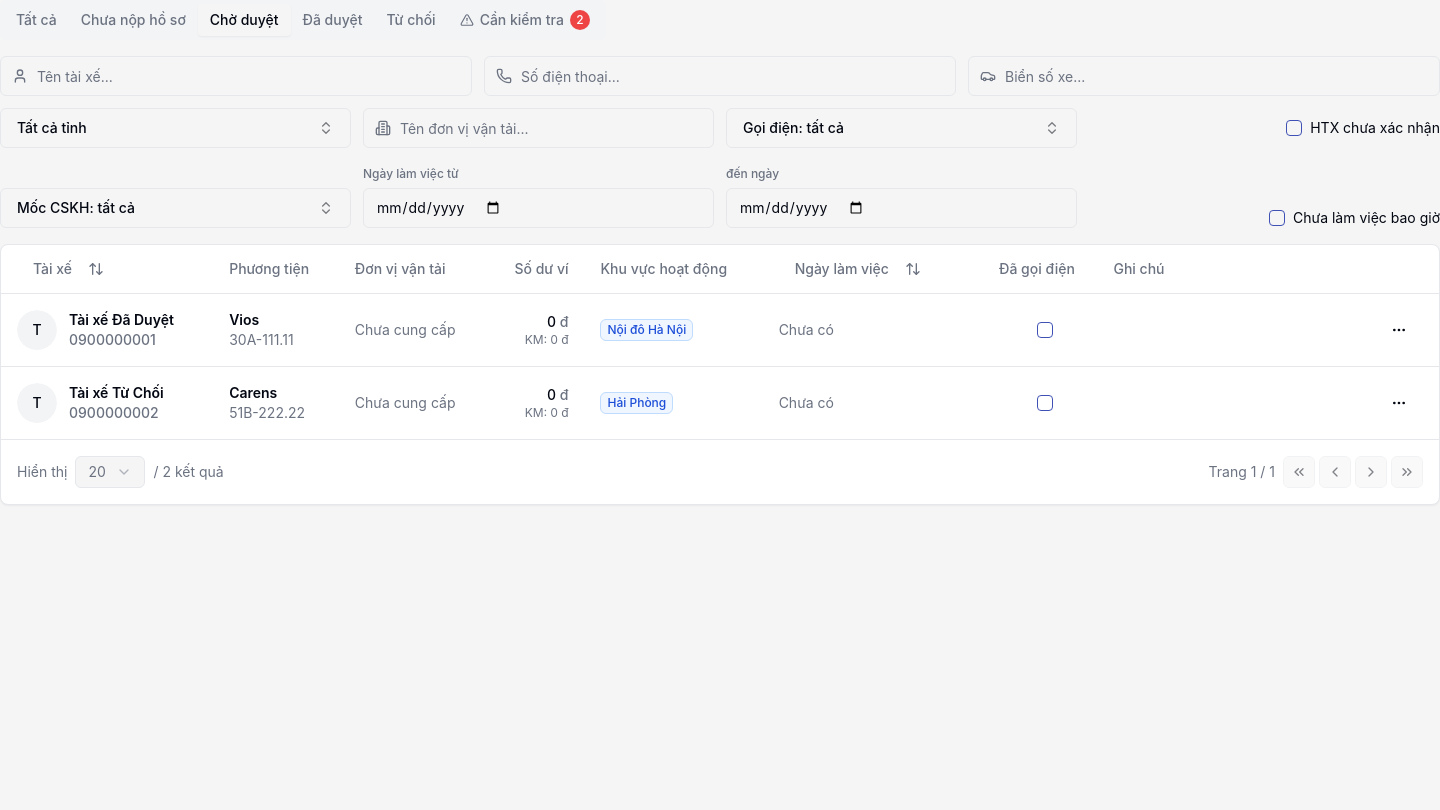
DriversTable — Đưa lại Chờ duyệt cho tài xế đã duyệt và từ chối › hiển thị thông báo xoá lý do từ chối khi đưa tài xế đang bị từ chối về Chờ duyệt
Click the text "Tài xế Từ Chối".
click(116, 392)  # box [69,382,164,402]
(page scrolled)
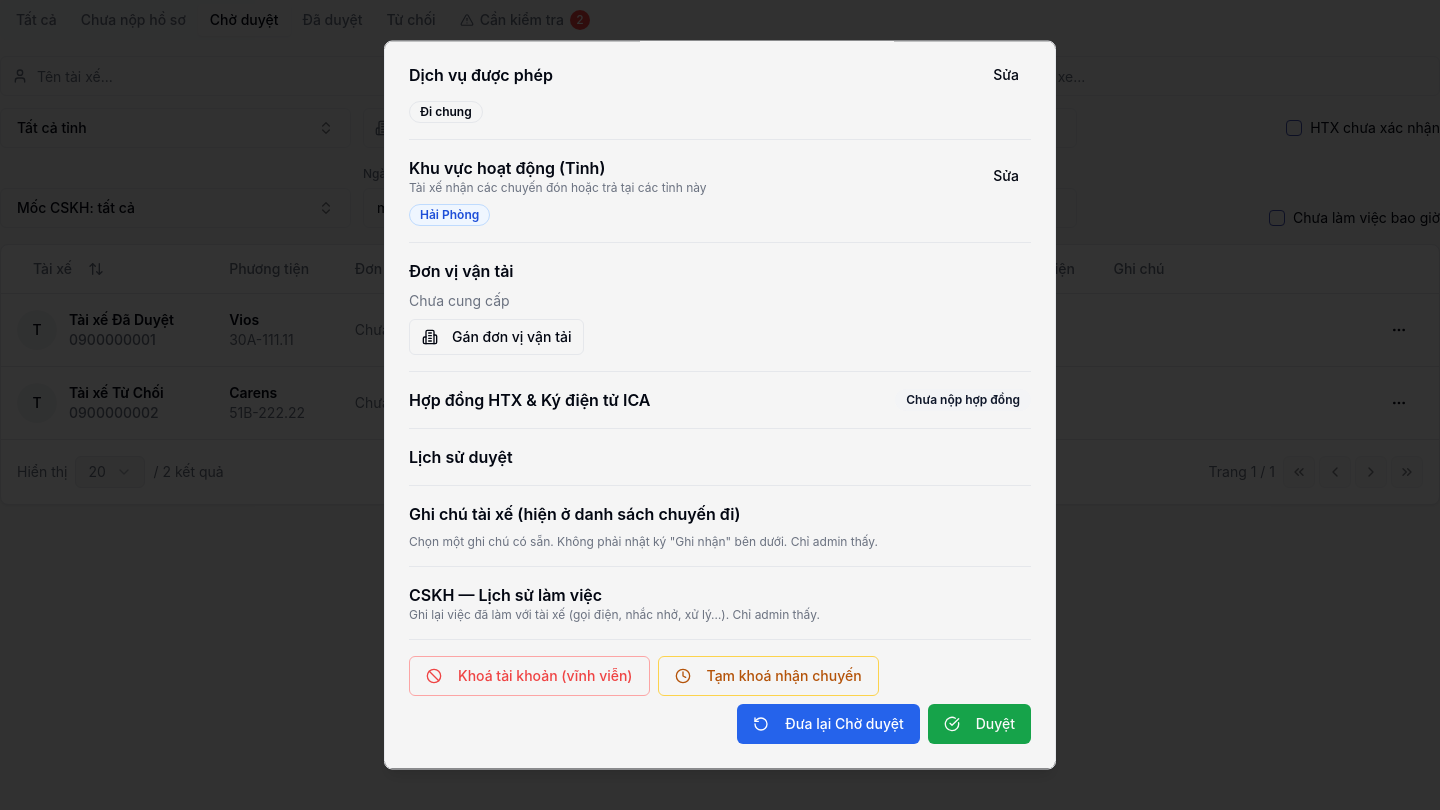
Check: the dialog is shown, box [384,40,1056,770]
Click the button "Đưa lại Chờ duyệt".
click(828, 724)  # box [737,704,920,744]
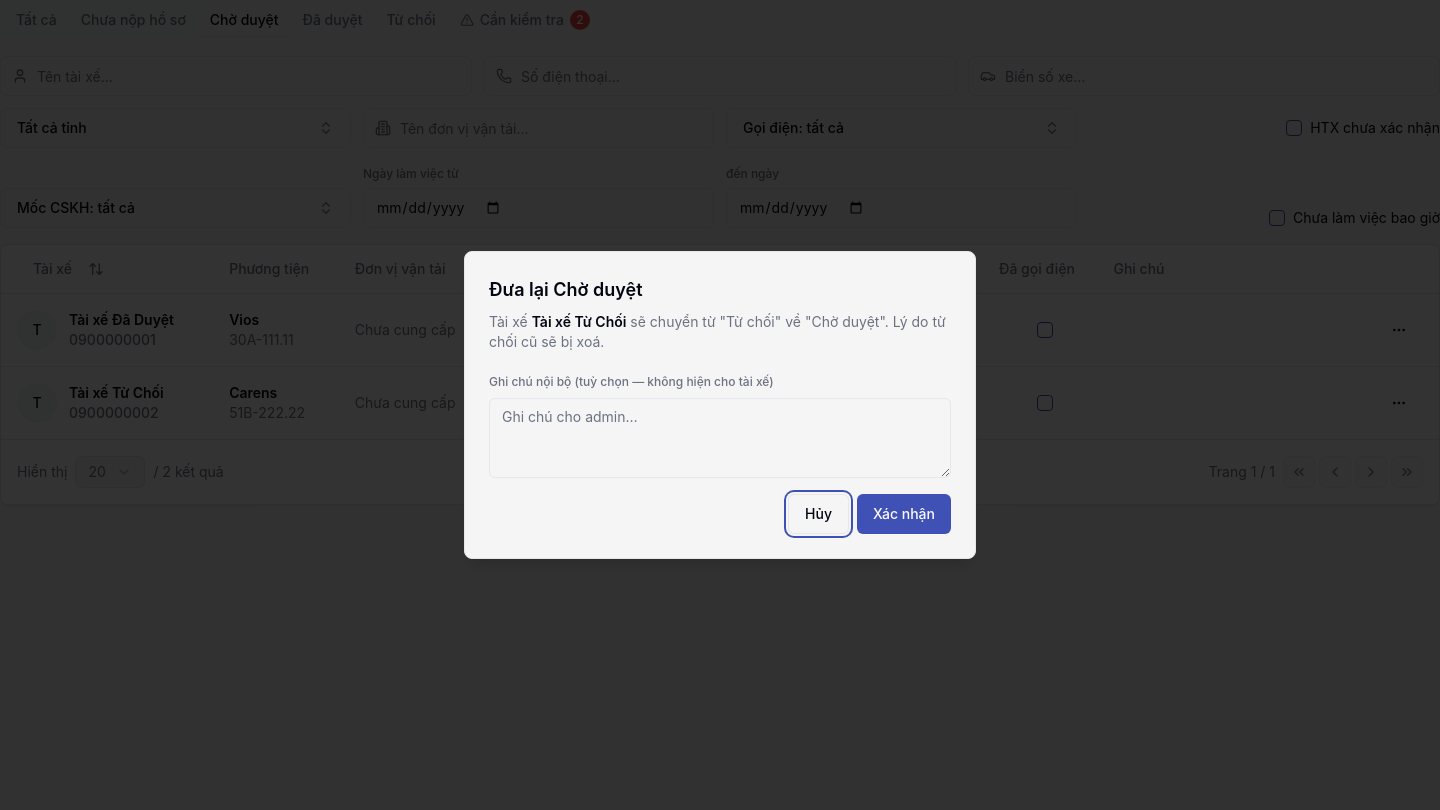
Check: the text "sẽ chuyển từ \"Từ chối\" về \"Chờ duyệt\". Lý do từ chối cũ sẽ bị xoá." is shown, box [489,313,946,350]
